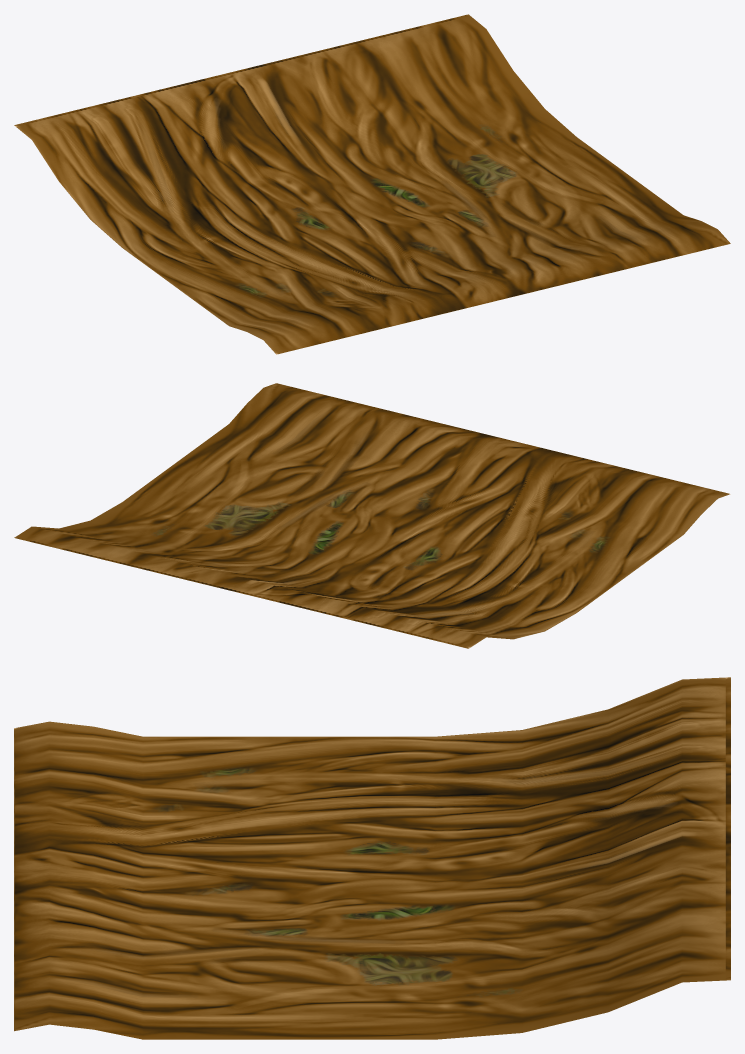
Rendered from Roots_Mesh.fbx.
3 views of the same model, one above another, from view 1: azimuth 30°, elevation 25°; view 2: azimuth 150°, elevation 25°; view 3: azimuth 270°, elevation 25° (orthographic). The views are drawn at different scales.
Parts seen in each view (by area): view 1: Root; view 2: Root; view 3: Root.
Boxes of the visible parts, <box> form: Root: <box>14,14,730,354</box>; Root: <box>14,383,730,648</box>; Root: <box>14,677,730,1039</box>.
Size of the model in its own units: 29.59 by 2.7 by 29.59.
1 material, 1 textured.
